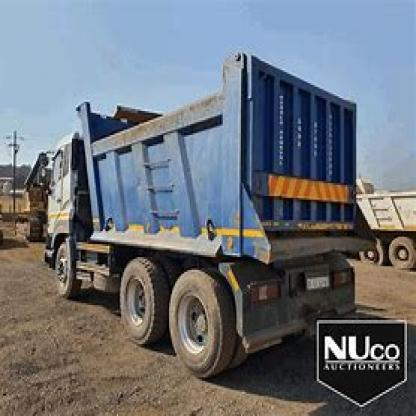dump_truck: (32, 50, 377, 372)
